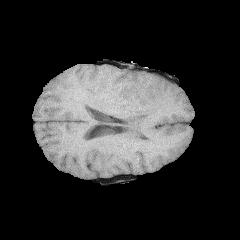glioma: (111, 70, 168, 136)
